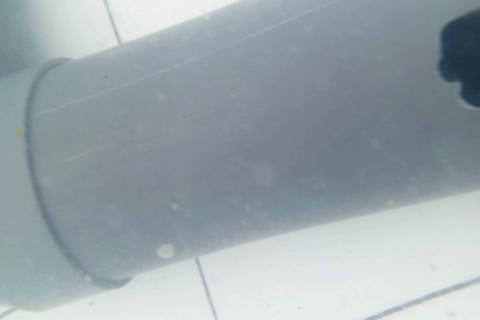kebocoran: (435, 9, 480, 112)
